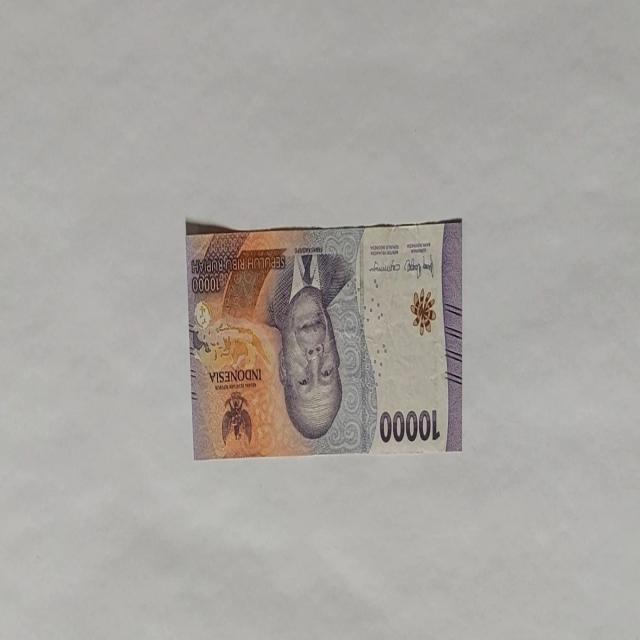sepuluh ribu rupiah: (185, 216, 463, 459), (267, 248, 353, 443)
